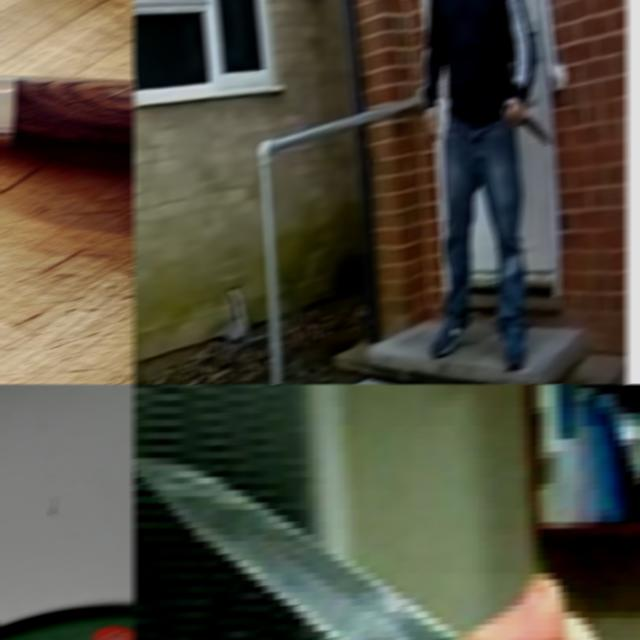Knife: (133, 459, 458, 640)
Knife_Handle: (133, 438, 640, 640), (502, 94, 552, 147)
